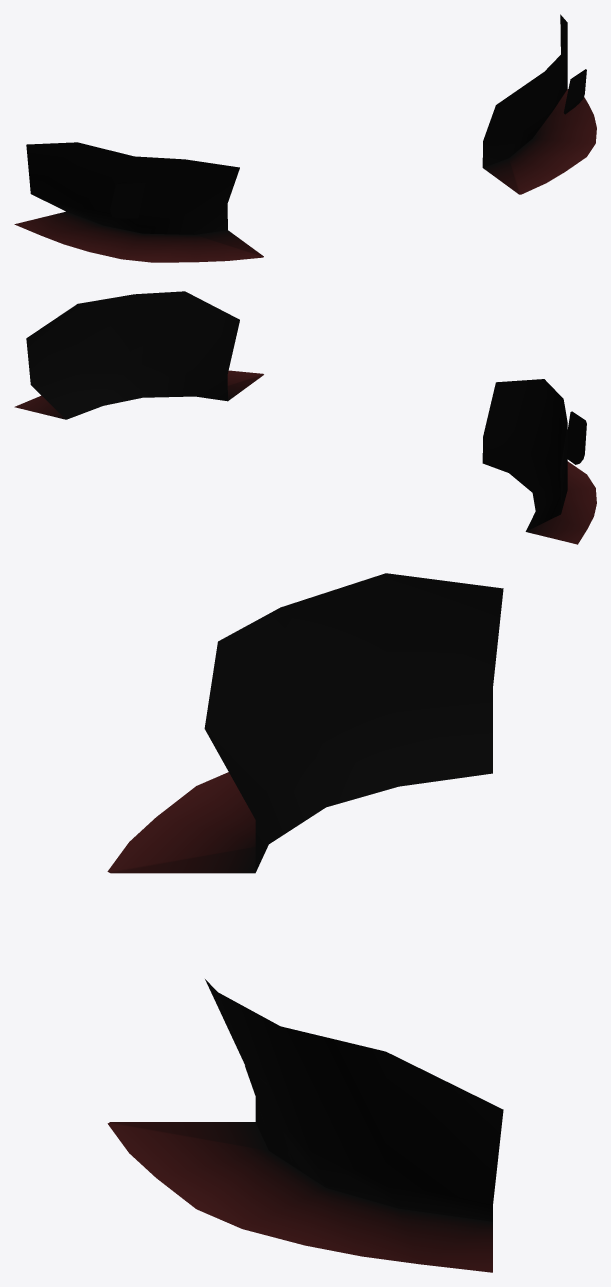
Rendered from Supra_FrontBar_05_Trim.fbx.
The picture shows the model from 3 angles, top to bottom: view 1: azimuth 30°, elevation 25°; view 2: azimuth 150°, elevation 25°; view 3: azimuth 270°, elevation 25°; orthographic projection. The views are drawn at different scales.
Parts seen in each view (by area): view 1: Supra_FrontBar_05_Trim; view 2: Supra_FrontBar_05_Trim; view 3: Supra_FrontBar_05_Trim.
Boxes of the visible parts, x1=… form: Supra_FrontBar_05_Trim: x1=14, y1=14, x2=596, y2=262; Supra_FrontBar_05_Trim: x1=14, y1=291, x2=596, y2=544; Supra_FrontBar_05_Trim: x1=107, y1=573, x2=503, y2=1272.
Bounding box in the file's own units: 174 × 27.27 × 52.85.
